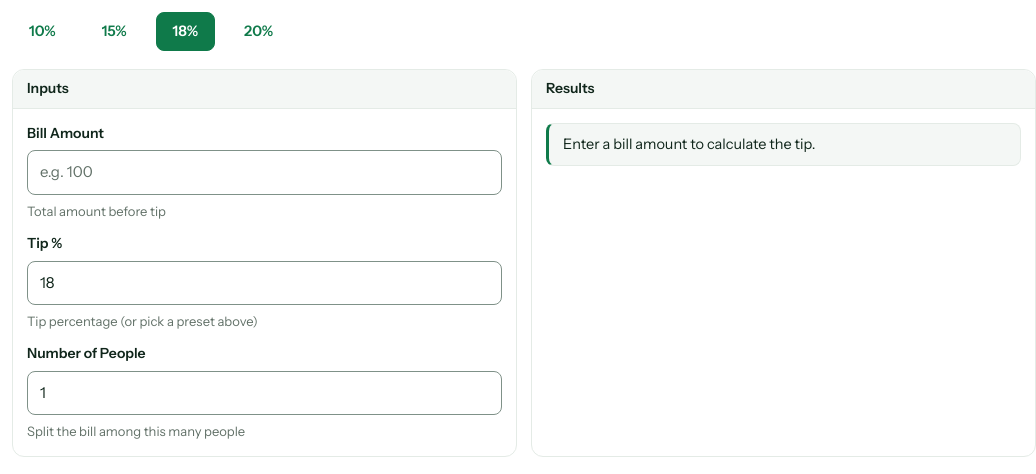
Test: TipCalculator › computes tip amount $18.00 for bill $100 at 18%
In the number field with placeholder "e.g. 100": (264,172) [27,150,502,195], type "100"
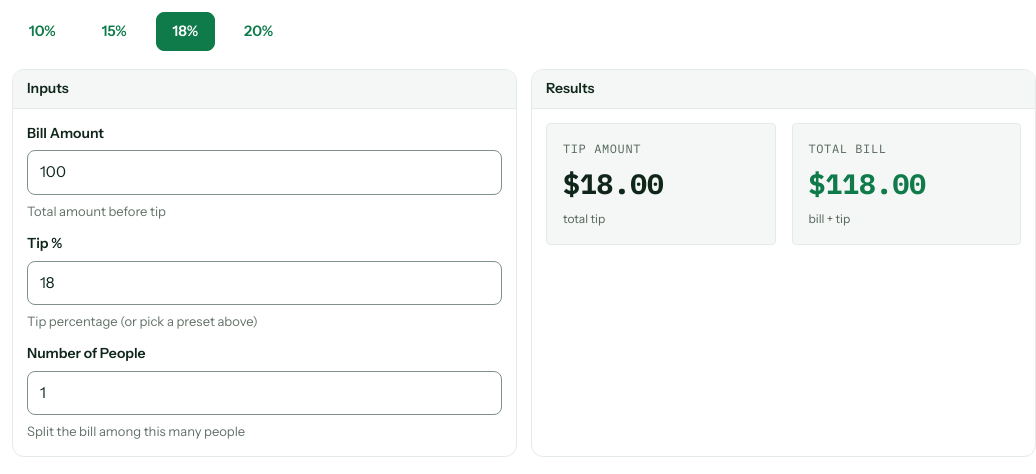
Now the text "$18.00" is shown, box [563,165,664,202]
